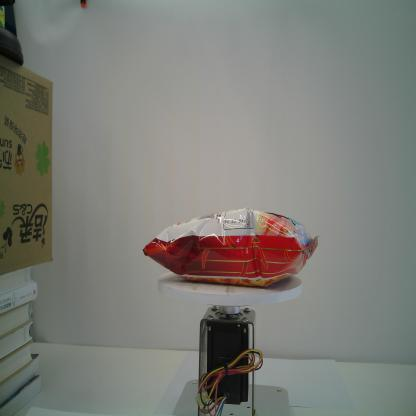Puffed Food: (142, 204, 321, 288)
